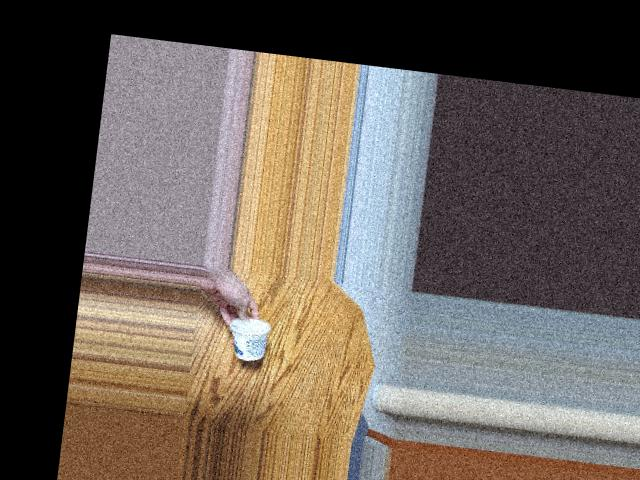cotage: (227, 311, 264, 358)
